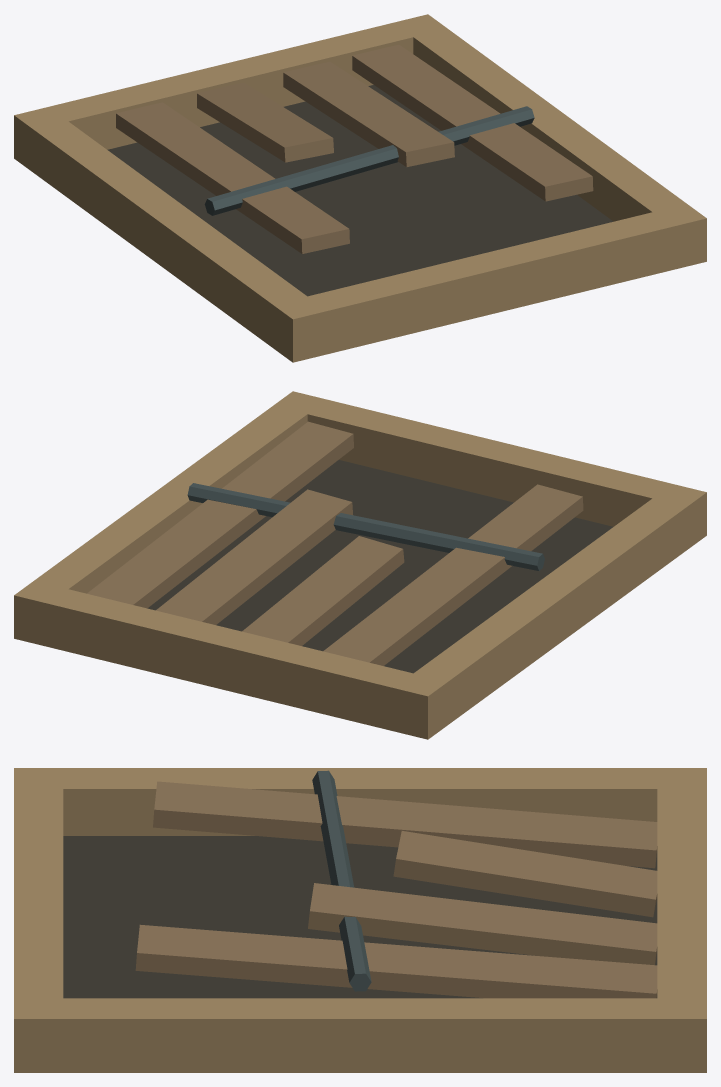
The model's file is SW_Hatch_Collapsed.fbx.
3 views of the same model, one above another, from view 1: azimuth 30°, elevation 25°; view 2: azimuth 150°, elevation 25°; view 3: azimuth 270°, elevation 25° (orthographic). The views are drawn at different scales.
Visible parts, largest first — view 1: SW_Hatch_Collapsed; view 2: SW_Hatch_Collapsed; view 3: SW_Hatch_Collapsed.
Part boxes in pixels (x1=…): SW_Hatch_Collapsed: x1=14, y1=14, x2=706, y2=362; SW_Hatch_Collapsed: x1=14, y1=391, x2=706, y2=739; SW_Hatch_Collapsed: x1=14, y1=768, x2=706, y2=1072.
Bounding box in the file's own units: 2.4 × 0.3599 × 2.8.
